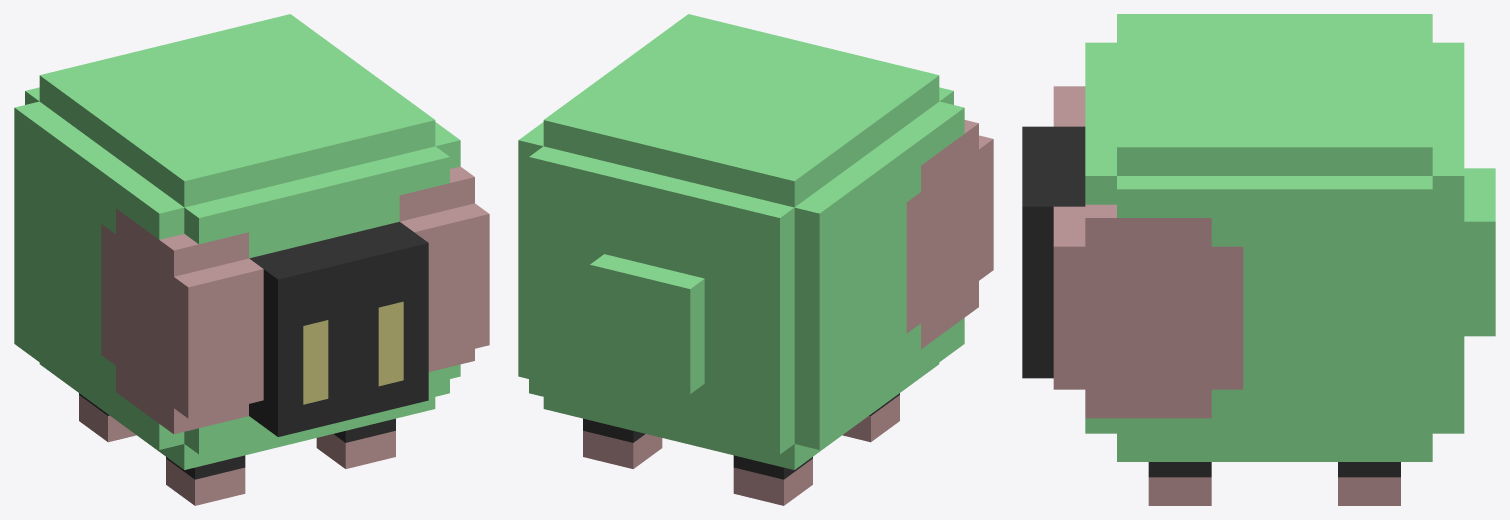
Rendered from sheep5.obj.
3 renders of one model, left to right at view 1: azimuth 30°, elevation 25°; view 2: azimuth 150°, elevation 25°; view 3: azimuth 270°, elevation 25°, orthographic. The views are drawn at different scales.
Size of the model in its own units: 1.2 by 1.3 by 1.5.
Materials: 1 (1 with a texture image).
